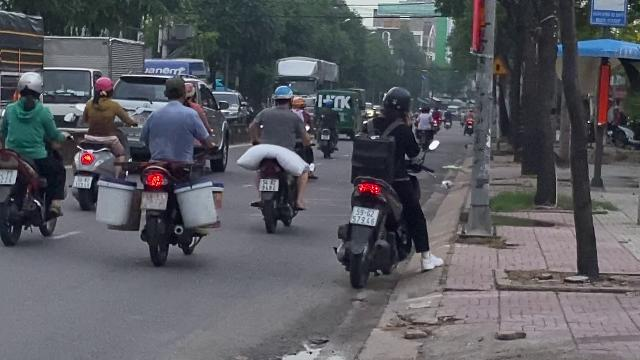helmet: (380, 86, 412, 118), (14, 72, 44, 102), (92, 76, 114, 100), (272, 85, 294, 107)
licenseplate: (350, 207, 378, 225), (141, 192, 167, 209), (259, 178, 279, 192), (0, 168, 16, 184), (73, 176, 91, 188)
motorcyclist: (336, 83, 432, 285), (128, 77, 220, 268), (0, 70, 68, 244), (237, 84, 313, 232), (68, 75, 134, 213)
nohelmet: (162, 76, 186, 103)
